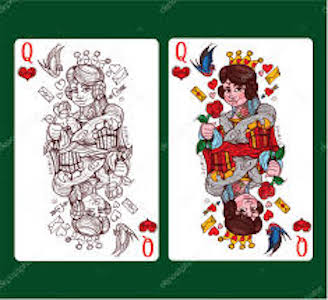QueenOfHearts: (12, 34, 163, 266), (166, 34, 317, 266)
